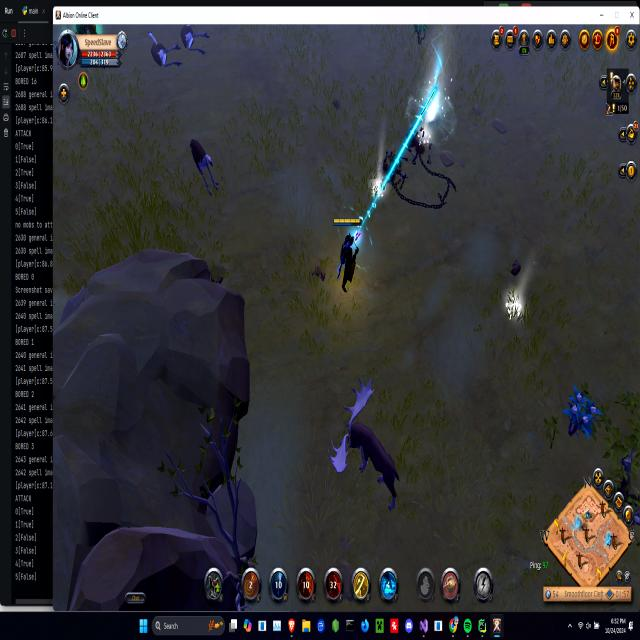hide: (562, 382, 601, 444)
mob: (146, 26, 186, 75), (177, 24, 211, 57)
ore: (323, 371, 403, 513), (185, 128, 223, 203)
red: (331, 210, 366, 298)
